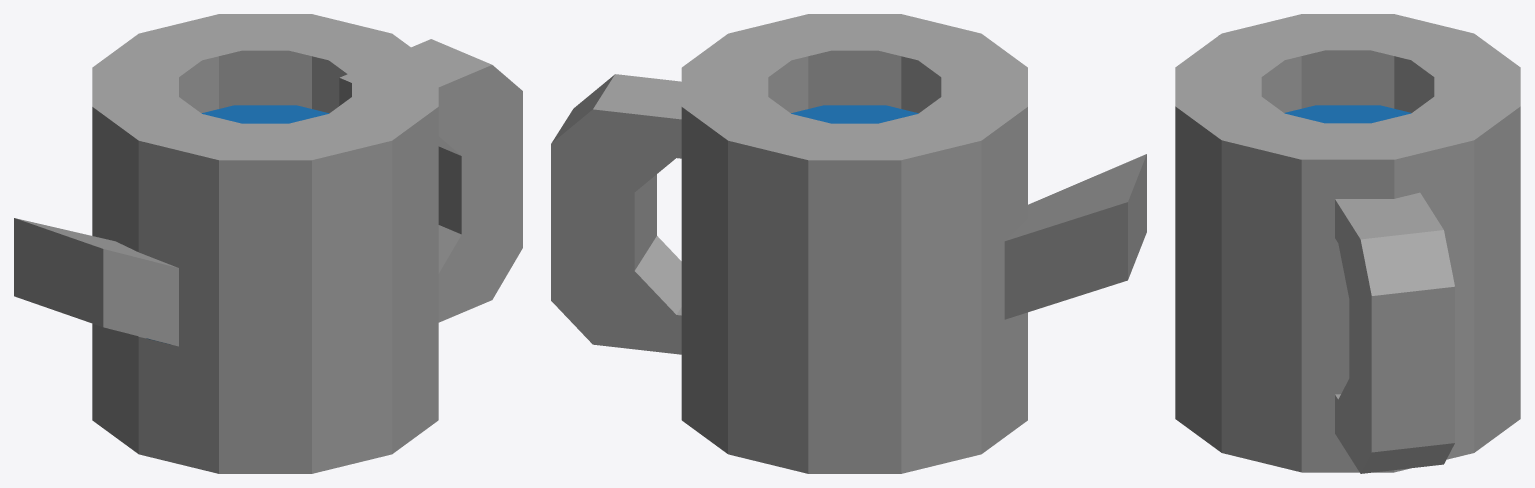
Rendered from WateringCan.obj.
3 views of the same model, side by side, from view 1: azimuth 30°, elevation 25°; view 2: azimuth 150°, elevation 25°; view 3: azimuth 270°, elevation 25° (orthographic).
Parts seen in each view (by area): view 1: circle, cylinder; view 2: circle, cylinder; view 3: circle, cylinder.
Boxes of the visible parts, x1,y1,x2,y2 form: circle: [14, 14, 522, 473]; cylinder: [146, 105, 328, 344]; circle: [551, 14, 1146, 473]; cylinder: [791, 105, 918, 123]; circle: [1175, 14, 1520, 473]; cylinder: [1284, 105, 1411, 123].
Size of the model in its own units: 1.77 by 1 by 1.
Materials: 2 (2 with a texture image).
